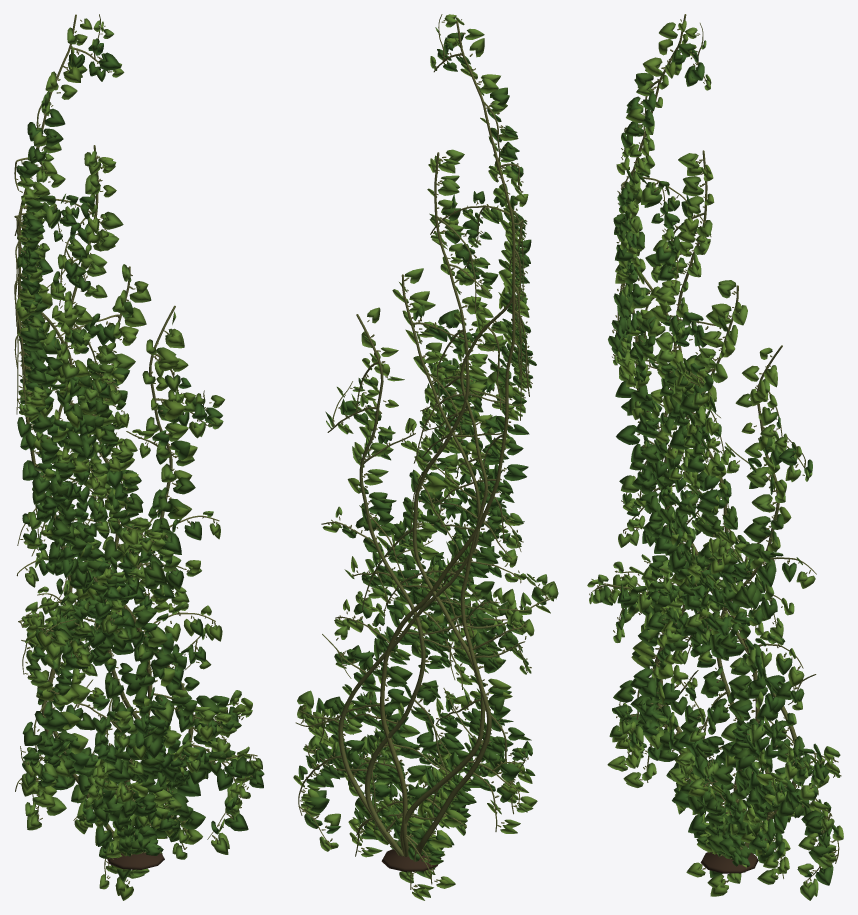
The model's file is climber_ivy_55.glb.
The picture shows the model from 3 angles, left to right: view 1: azimuth 30°, elevation 25°; view 2: azimuth 150°, elevation 25°; view 3: azimuth 330°, elevation 25°; orthographic projection. The views are drawn at different scales.
Parts seen in each view (by area): view 1: Sammel Pflanze, Sammel Putz; view 2: Sammel Pflanze, Sammel Putz; view 3: Sammel Pflanze, Sammel Putz.
Part boxes in pixels (left/top/right/bottom): Sammel Pflanze: left=16, top=18, right=264, bottom=900; Sammel Putz: left=14, top=14, right=257, bottom=883; Sammel Pflanze: left=293, top=14, right=558, bottom=900; Sammel Putz: left=295, top=14, right=551, bottom=890; Sammel Pflanze: left=587, top=20, right=843, bottom=900; Sammel Putz: left=589, top=14, right=841, bottom=884.
Bounding box in the file's own units: 1.57 × 5.61 × 0.5915.
